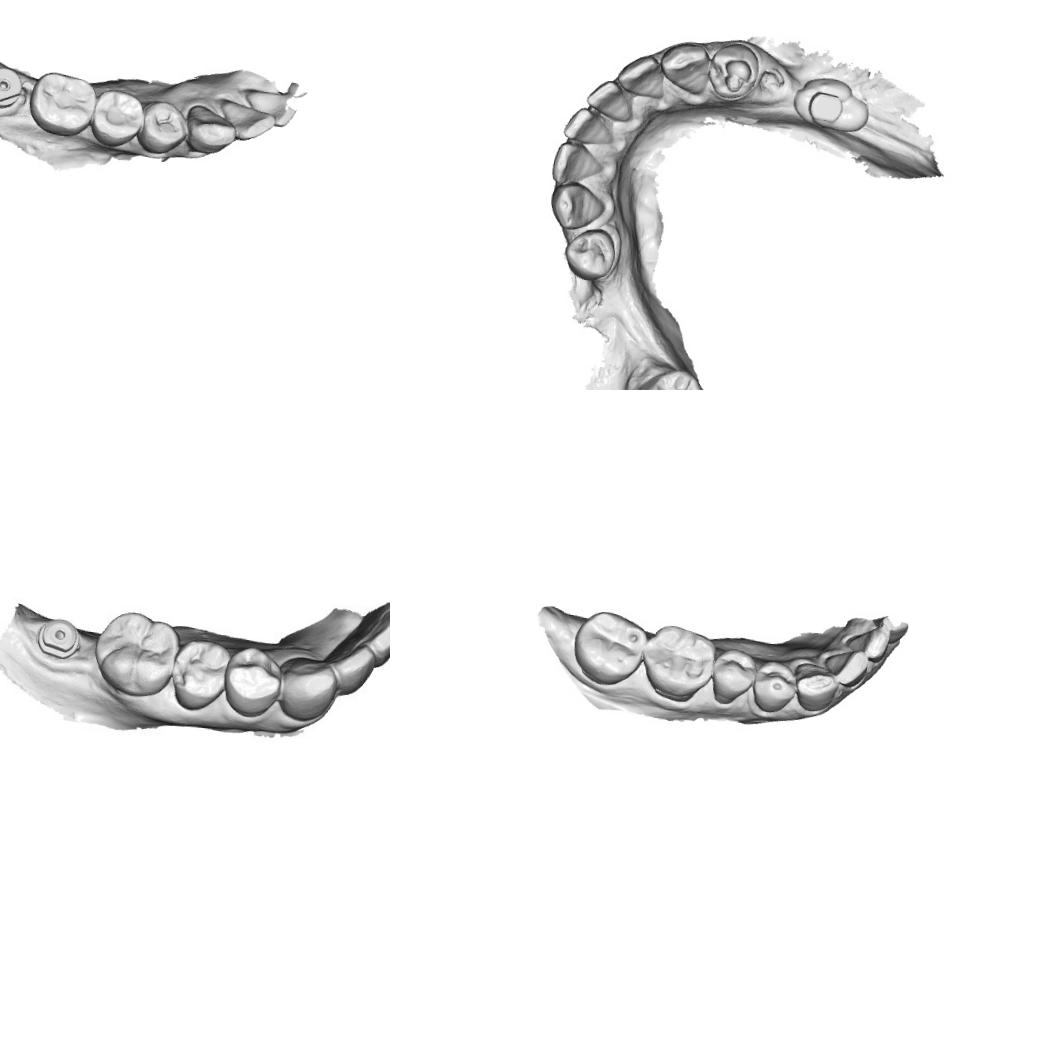canine: (275, 650, 341, 724), (546, 177, 608, 233), (659, 41, 713, 97), (182, 101, 235, 156), (791, 660, 842, 714)
implant: (31, 607, 84, 672), (0, 63, 24, 110)
incisor: (214, 95, 276, 143), (549, 140, 606, 188), (331, 641, 380, 695), (615, 51, 666, 100), (240, 86, 299, 128), (584, 77, 636, 122), (562, 104, 616, 146), (841, 621, 892, 663), (822, 646, 872, 688), (362, 610, 390, 668)
molar: (94, 608, 175, 696), (638, 622, 718, 705), (570, 608, 649, 689), (25, 68, 96, 140), (790, 73, 871, 134), (626, 363, 716, 390)
premolar: (222, 644, 288, 718), (173, 636, 227, 710), (706, 38, 763, 102), (89, 86, 143, 150), (562, 224, 618, 282), (134, 97, 188, 156), (709, 646, 759, 706), (750, 656, 798, 714)
